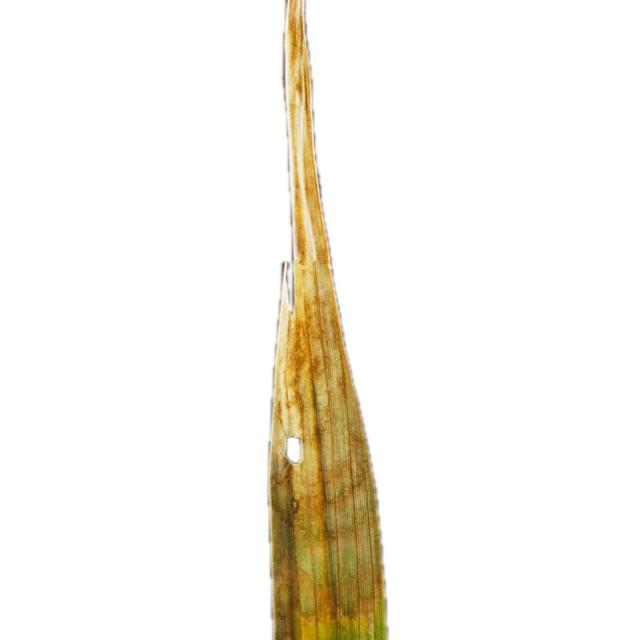Leaf scald: (186, 1, 441, 640)
